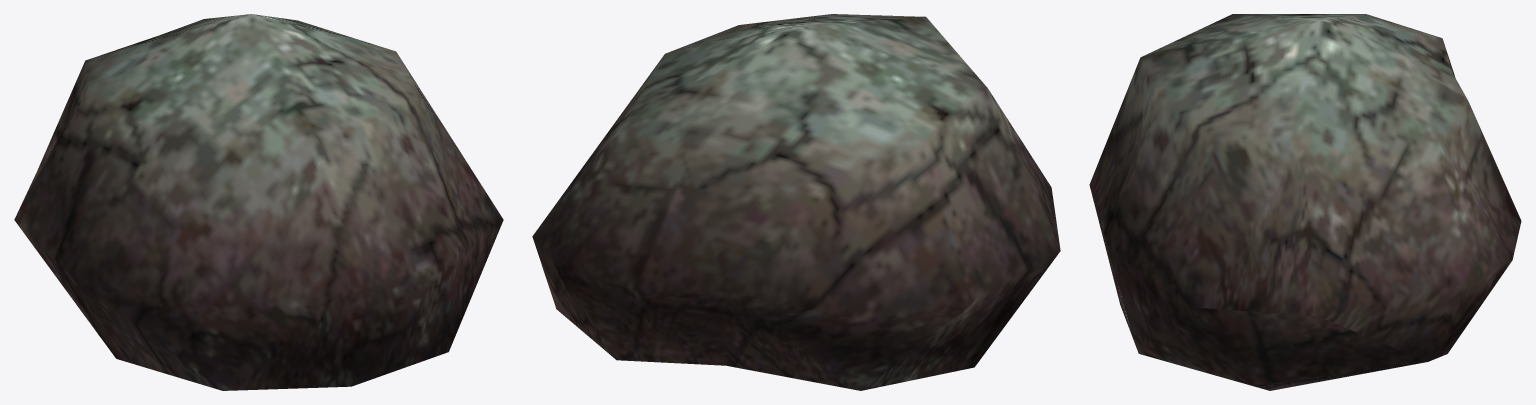
Rendered from robot_lamp_growing01.dae.
The picture shows the model from 3 angles, left to right: view 1: azimuth 30°, elevation 25°; view 2: azimuth 150°, elevation 25°; view 3: azimuth 270°, elevation 25°; orthographic projection. The views are drawn at different scales.
Visible parts, largest first — view 1: robot_lamp_growing01; view 2: robot_lamp_growing01; view 3: robot_lamp_growing01.
Part boxes in pixels (box(x1,y1,x2,y2)): robot_lamp_growing01: box(14, 14, 503, 390); robot_lamp_growing01: box(532, 14, 1060, 390); robot_lamp_growing01: box(1089, 14, 1521, 390).
Size of the model in its own units: 0.1209 by 0.0961 by 0.1103.
